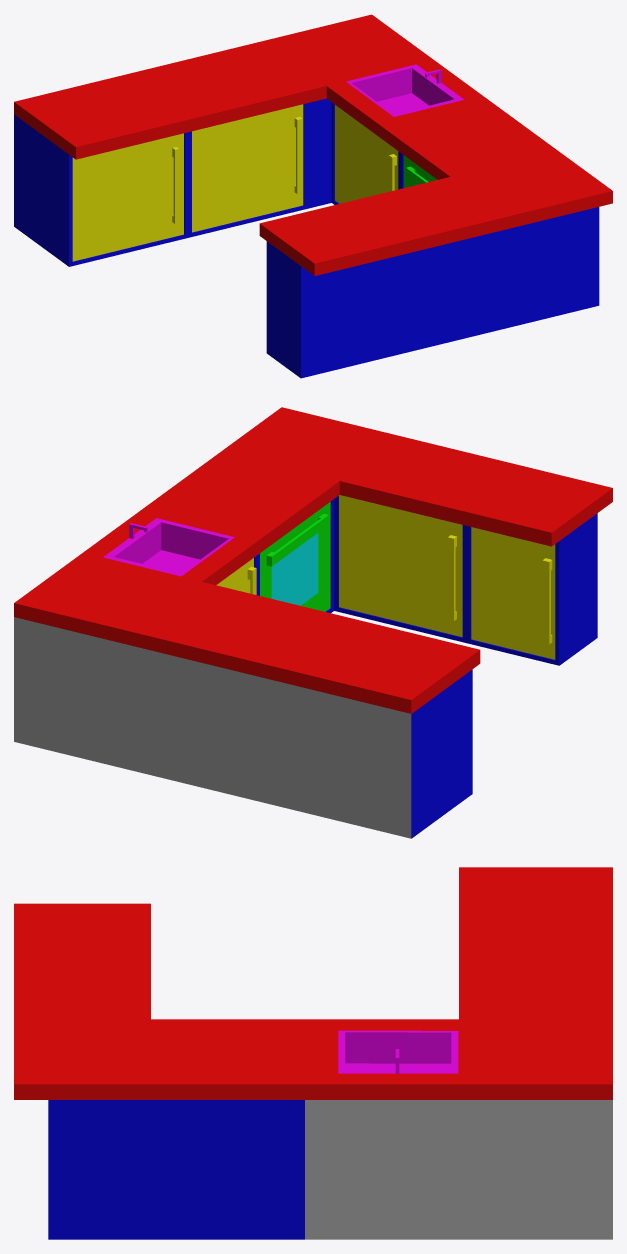
File: KitchenBench.fbx
3 views of the same model, one above another, from view 1: azimuth 30°, elevation 25°; view 2: azimuth 150°, elevation 25°; view 3: azimuth 270°, elevation 25° (orthographic). The views are drawn at different scales.
Visible parts, largest first — view 1: KicthenBench; view 2: KicthenBench; view 3: KicthenBench.
Boxes of the visible parts, x1,y1,x2,y2 form: KicthenBench: [14, 14, 612, 378]; KicthenBench: [14, 407, 612, 838]; KicthenBench: [14, 867, 612, 1239].
Size of the model in its own units: 300 by 110 by 350.
